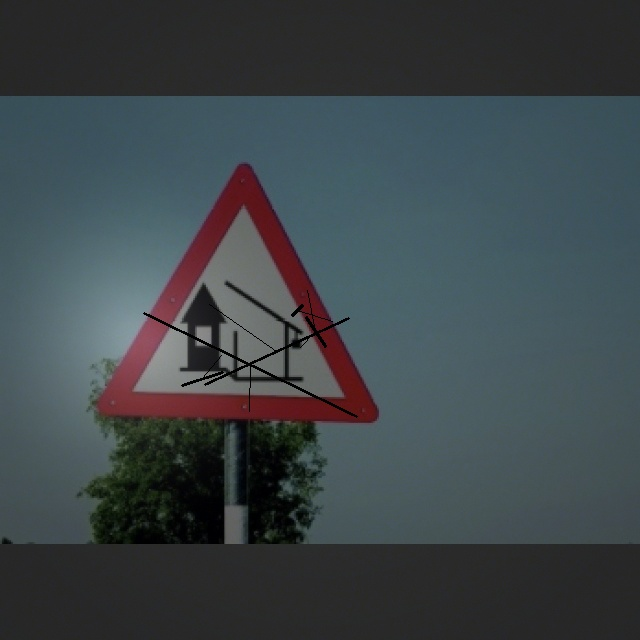Barrier_Ahead: (105, 160, 380, 427)
